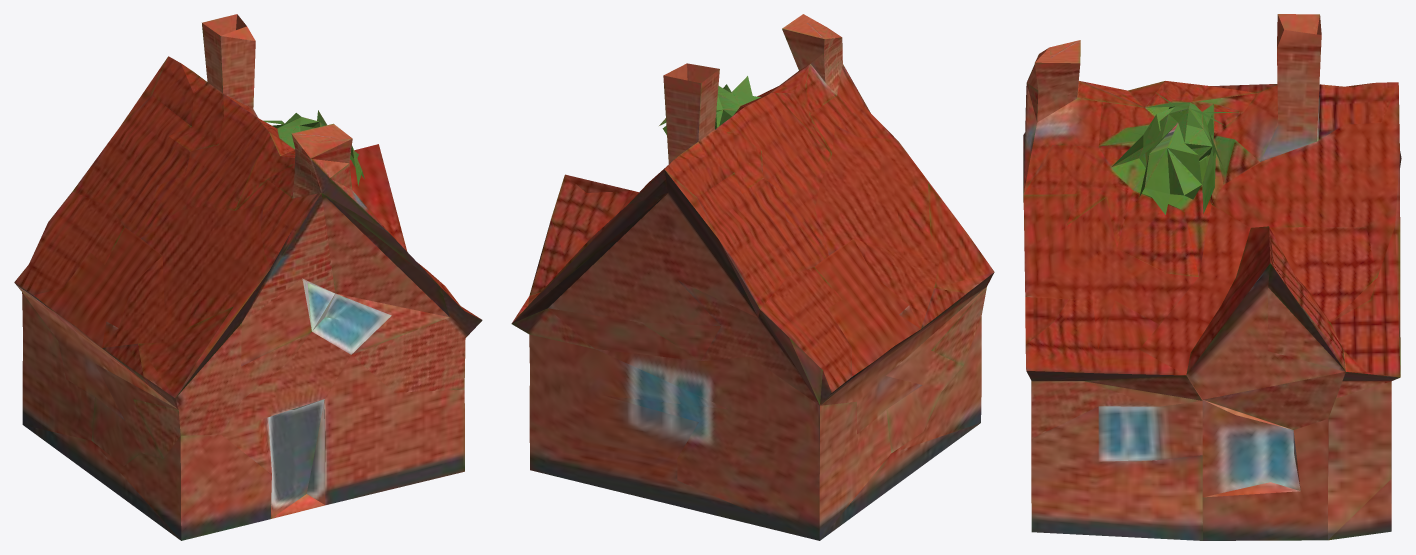
The model's file is farHouseC.glb.
3 views of the same model, side by side, from view 1: azimuth 30°, elevation 25°; view 2: azimuth 150°, elevation 25°; view 3: azimuth 270°, elevation 25° (orthographic). The views are drawn at different scales.
Bounding box in the file's own units: 1.59 × 1.88 × 1.45.
Materials: 1 (1 with a texture image).
